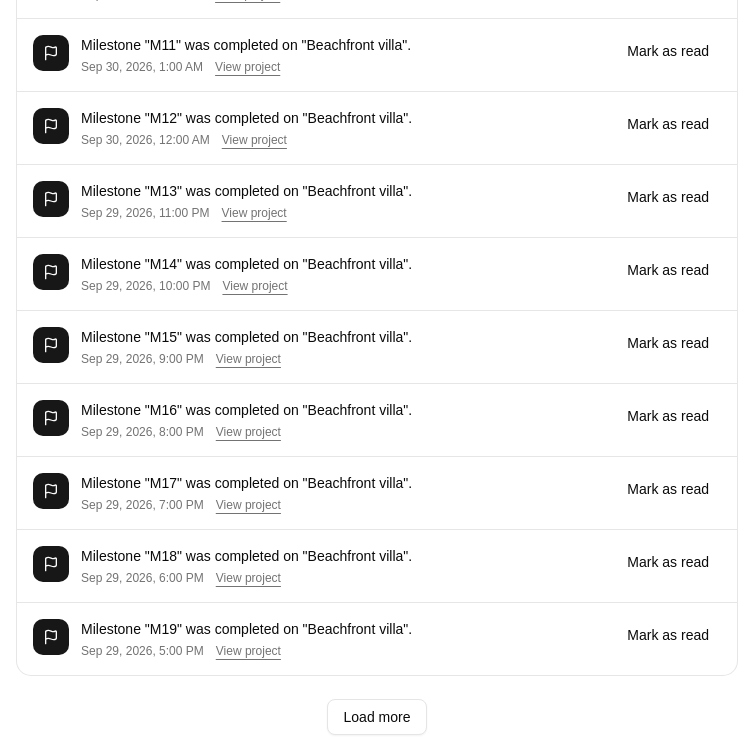
Test: NotificationsPage › loading more › never shows the same notification twice if one arrived while paging
(page scrolled)
Click the button "Load more".
click(377, 717)  # box x1=326 y1=699 x2=427 y2=735
(page scrolled)
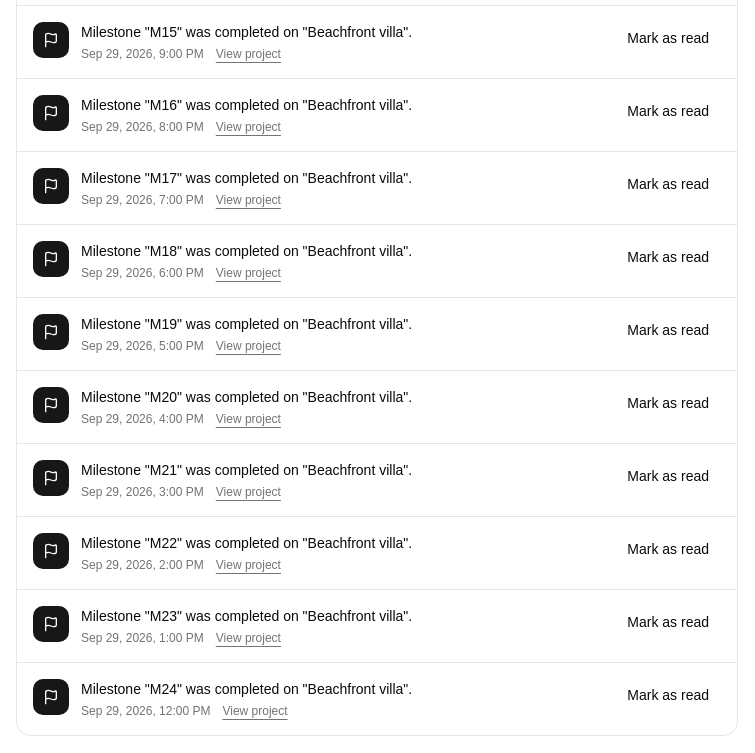
Now the text "Milestone \"M24\" was completed on \"Beachfront villa\"." is shown, box x1=81 y1=679 x2=412 y2=699
